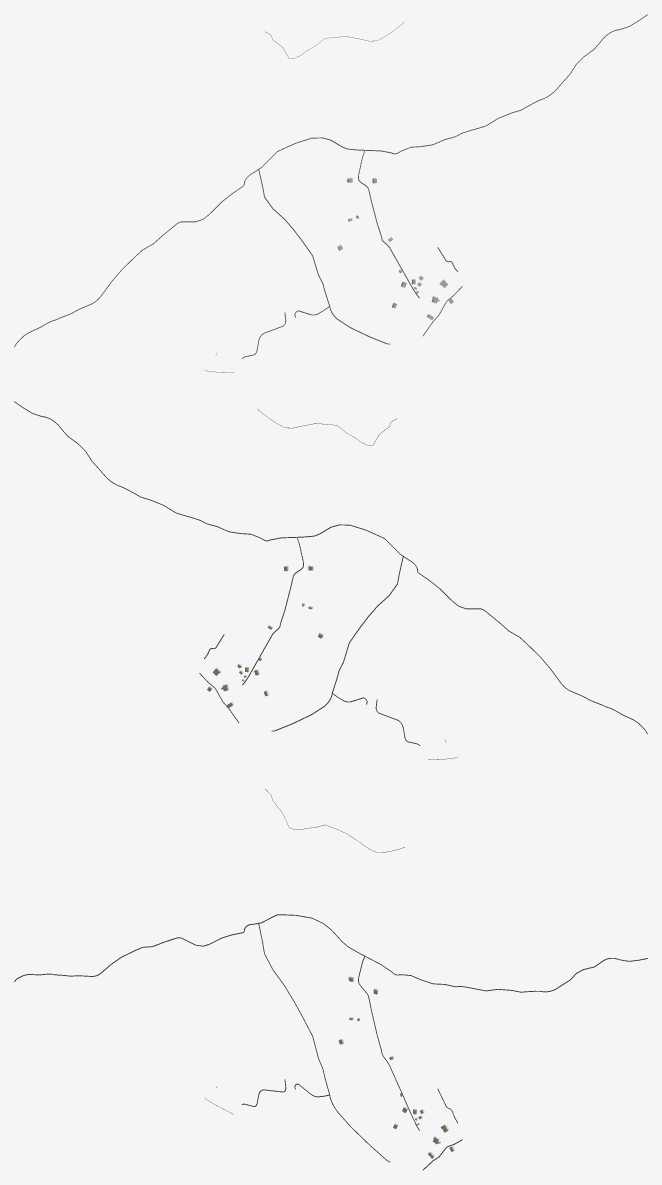
File: historic-palestine-08_20_3496_3142.glb
3 views of the same model, one above another, from view 1: azimuth 30°, elevation 25°; view 2: azimuth 150°, elevation 25°; view 3: azimuth 330°, elevation 25° (orthographic).
Parts seen in each view (by area): view 1: Road .006; view 2: Road .006; view 3: Road .006.
Part boxes in pixels (x1,y1,x2,y2): Road .006: (14,14,647,346); Road .006: (14,401,647,733); Road .006: (14,914,647,992).
Bounding box in the file's own units: 2333 × 1209 × 8.7.
